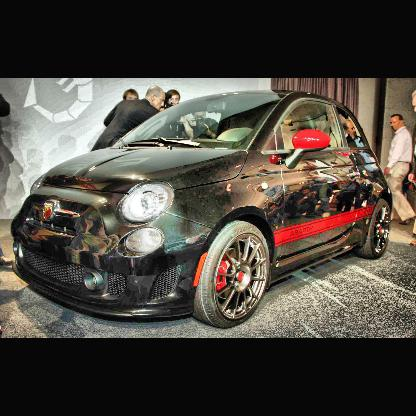FIAT 500 Abarth 2012: (12, 91, 393, 328)
